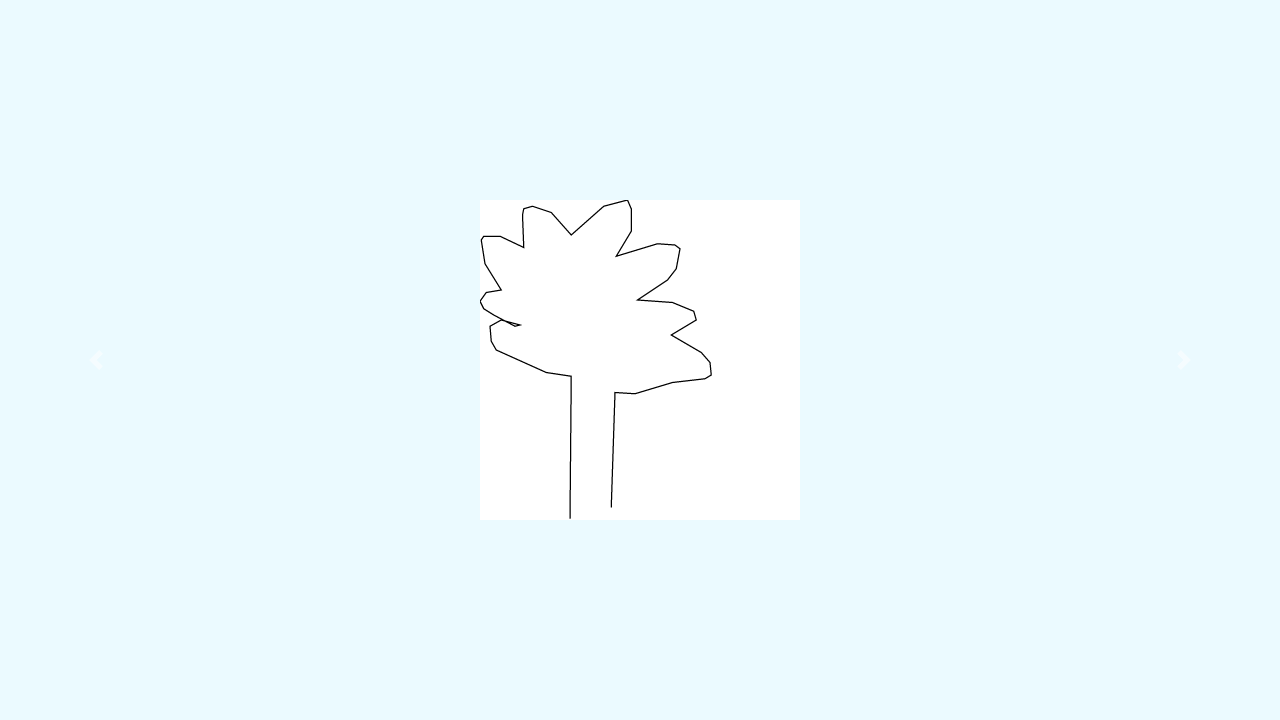tree: (468, 190, 720, 536)
